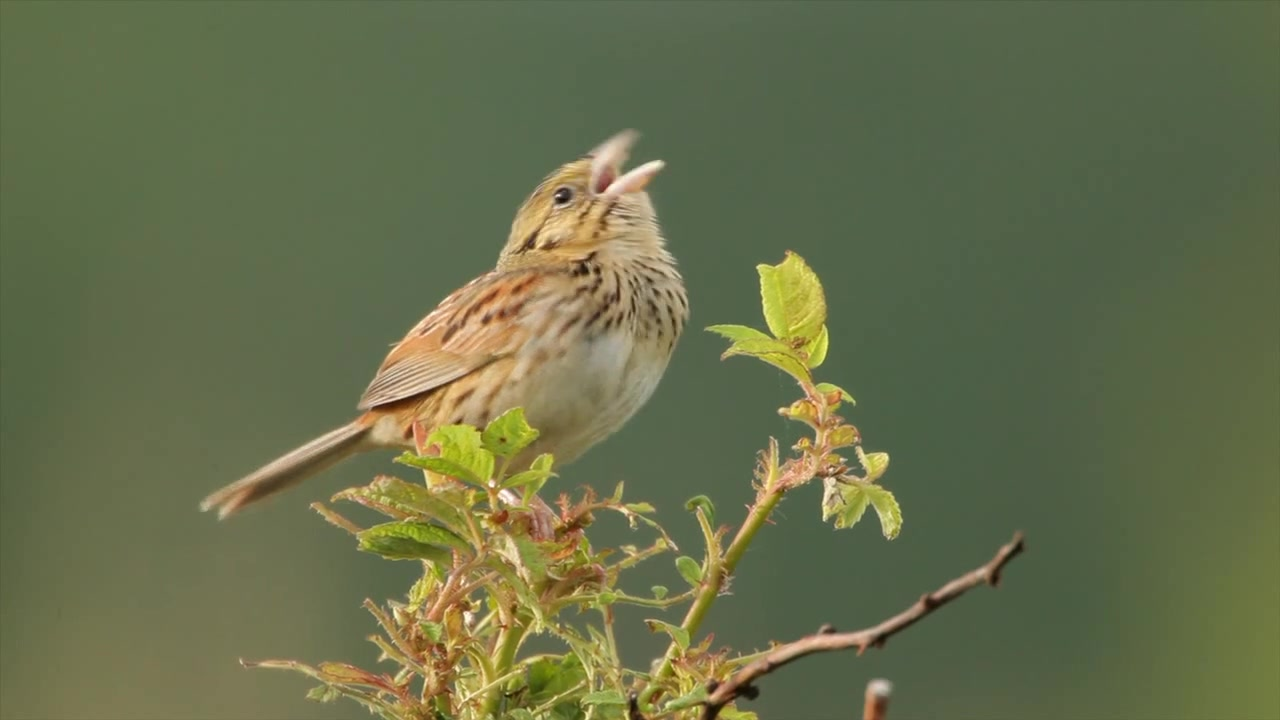bird: (200, 128, 694, 541)
